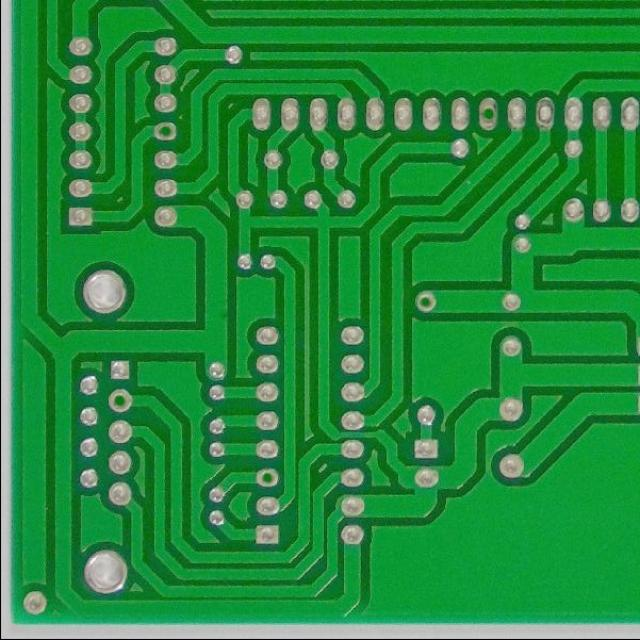missing_hole: (102, 388, 134, 418), (410, 288, 436, 320), (251, 465, 280, 493), (147, 120, 180, 144), (475, 101, 502, 130)
